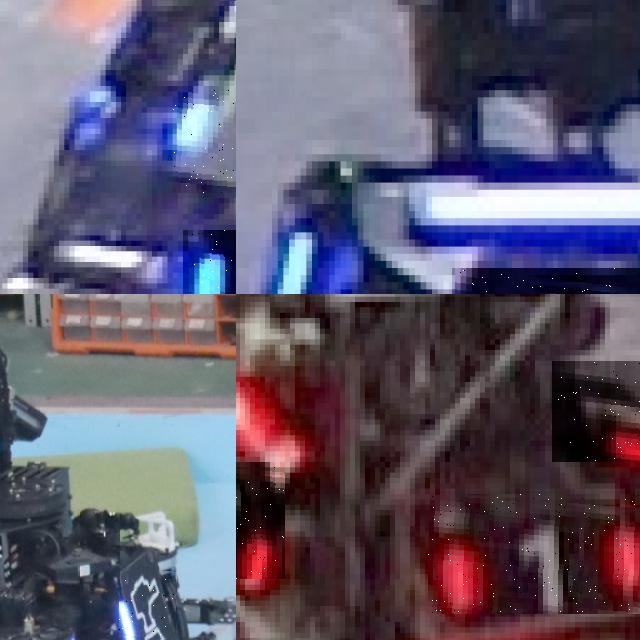B3: (173, 86, 236, 192)
Bs: (117, 567, 177, 640)
R1: (425, 491, 640, 613), (552, 360, 640, 462), (236, 461, 285, 579)
